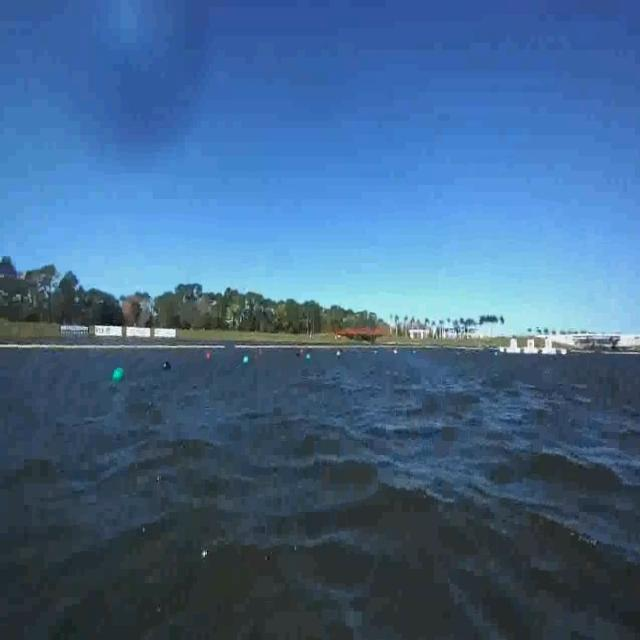green-buoy: (115, 366, 128, 380)
